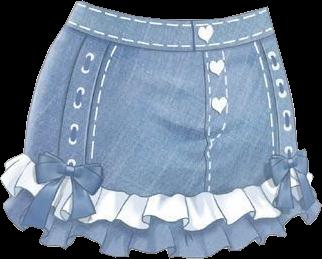Hemline: (0, 161, 318, 232), (2, 204, 321, 258)
Waistline: (23, 152, 299, 199), (64, 23, 274, 50), (80, 0, 266, 22)
